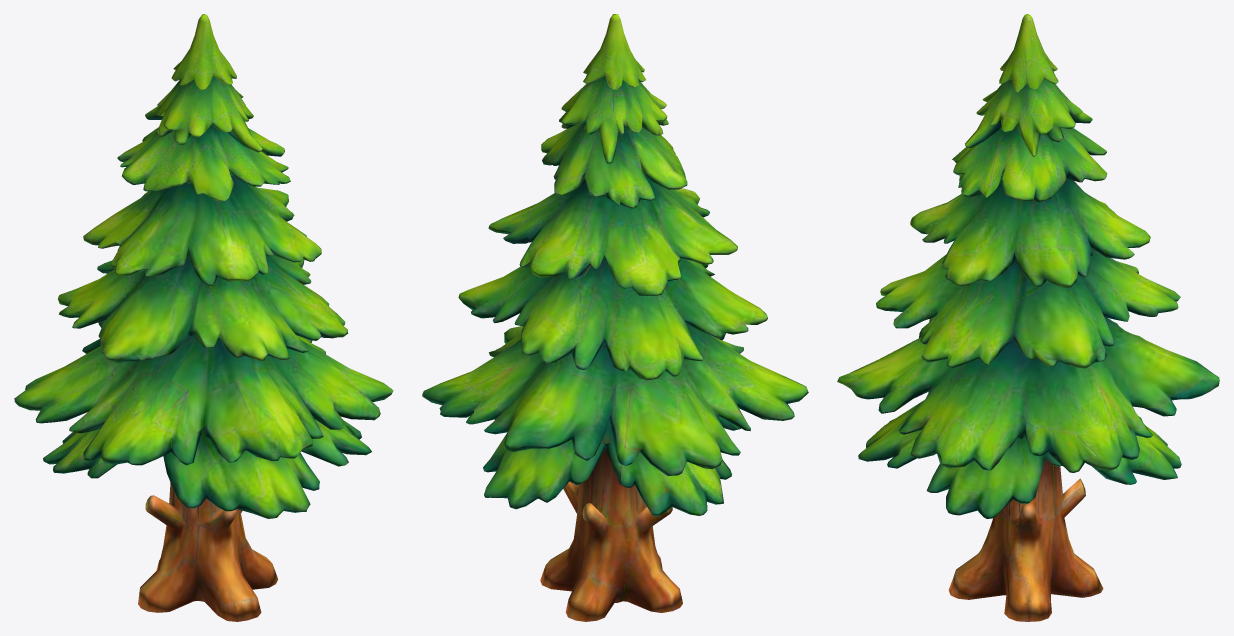
3 renders of one model, left to right at view 1: azimuth 30°, elevation 25°; view 2: azimuth 150°, elevation 25°; view 3: azimuth 270°, elevation 25°, orthographic.
Visible parts, largest first — view 1: geometry_0; view 2: geometry_0; view 3: geometry_0.
Boxes of the visible parts, bbox=[...] form: geometry_0: bbox=[14, 14, 393, 621]; geometry_0: bbox=[422, 14, 808, 621]; geometry_0: bbox=[837, 14, 1219, 621].
Bounding box in the file's own units: 0.5156 × 0.9517 × 0.5757.
1 material, 1 textured.
